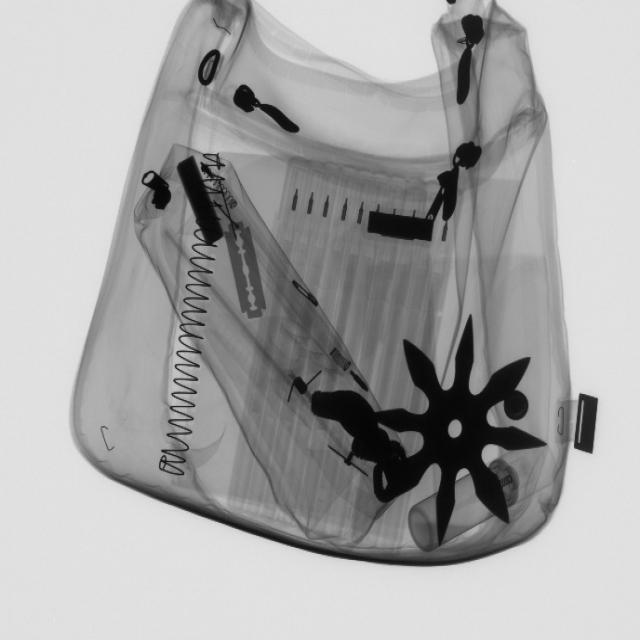BLADE: (224, 217, 272, 325)
SHURIKEN: (362, 314, 548, 547)
